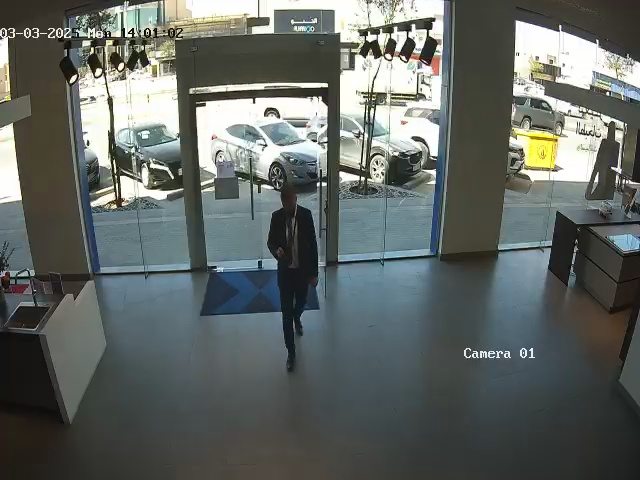employee: (266, 185, 319, 372)
